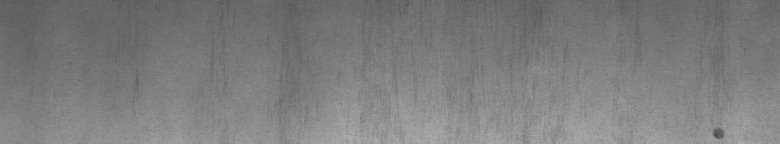fi: (708, 120, 729, 136)
